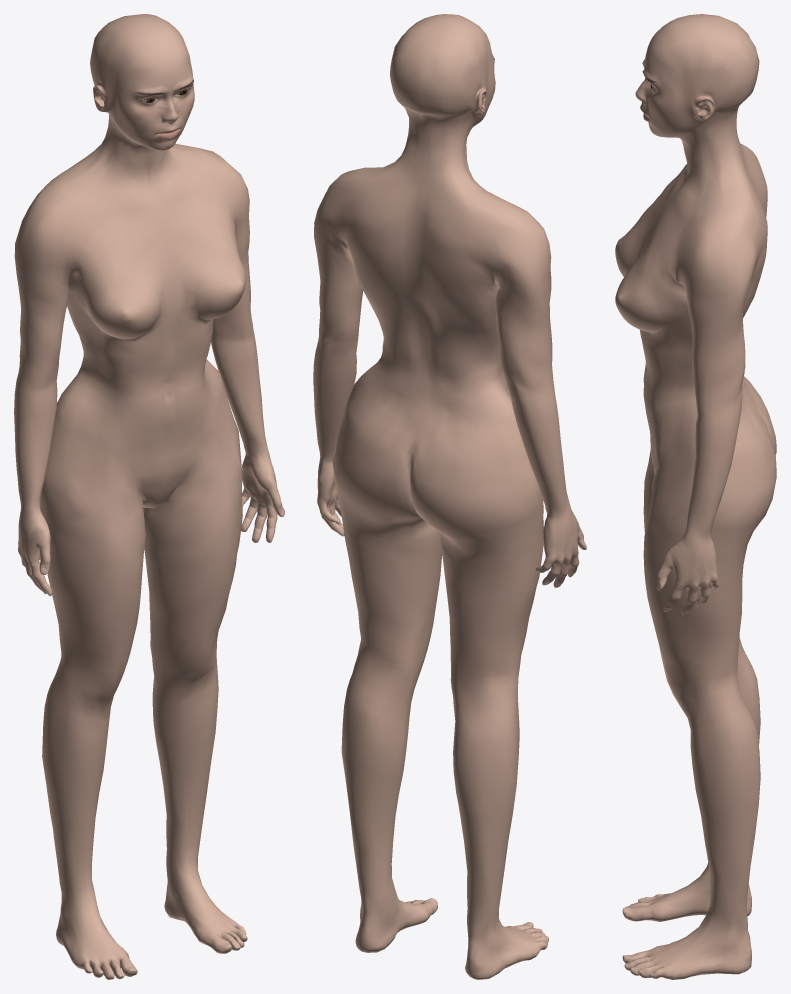
The model's file is woman_east_asian_v4.glb.
3 views of the same model, side by side, from view 1: azimuth 30°, elevation 25°; view 2: azimuth 150°, elevation 25°; view 3: azimuth 270°, elevation 25° (orthographic).
Visible parts, largest first — view 1: basemesh_female_body, face_blink; view 2: basemesh_female_body, face_blink; view 3: basemesh_female_body, face_blink.
Part boxes in pixels (<box>): basemesh_female_body: <box>14,14,284,979</box>; face_blink: <box>104,52,194,128</box>; basemesh_female_body: <box>313,14,586,979</box>; face_blink: <box>480,40,495,111</box>; basemesh_female_body: <box>615,14,776,979</box>; face_blink: <box>635,50,701,124</box>.
Size of the model in its own units: 0.448 by 1.59 by 0.2511.
Materials: 3 (2 with a texture image).
